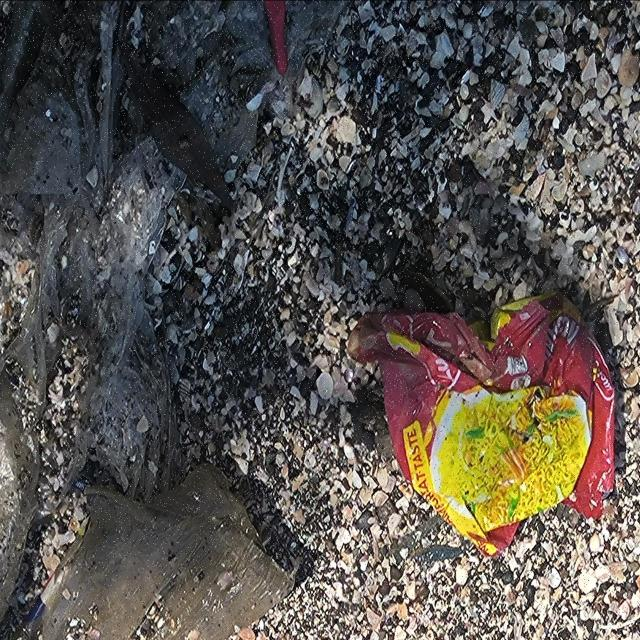plastic_waste: (347, 287, 619, 560)
